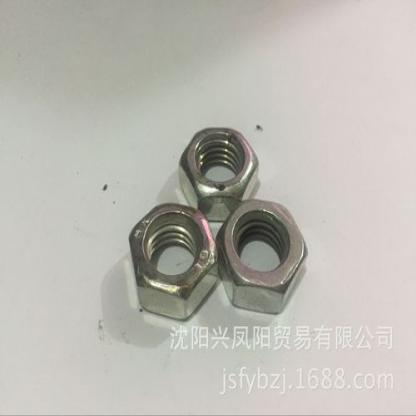FOD: (215, 195, 310, 316), (127, 200, 218, 320), (175, 124, 260, 224)
